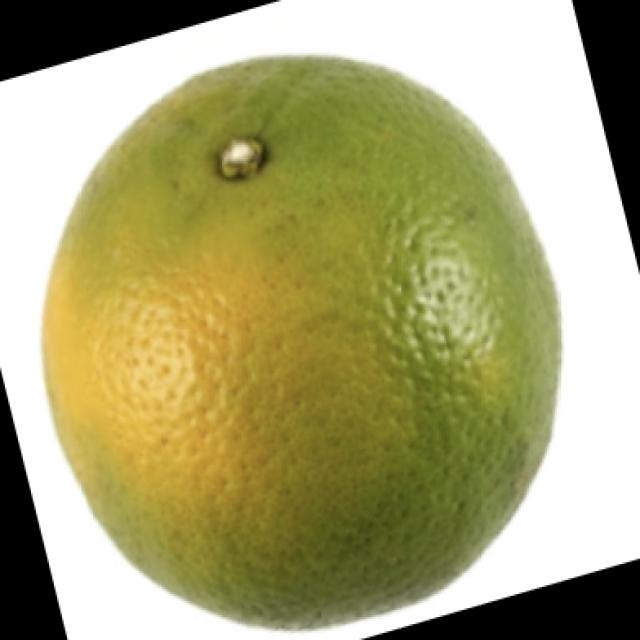orange: (39, 43, 582, 623)
